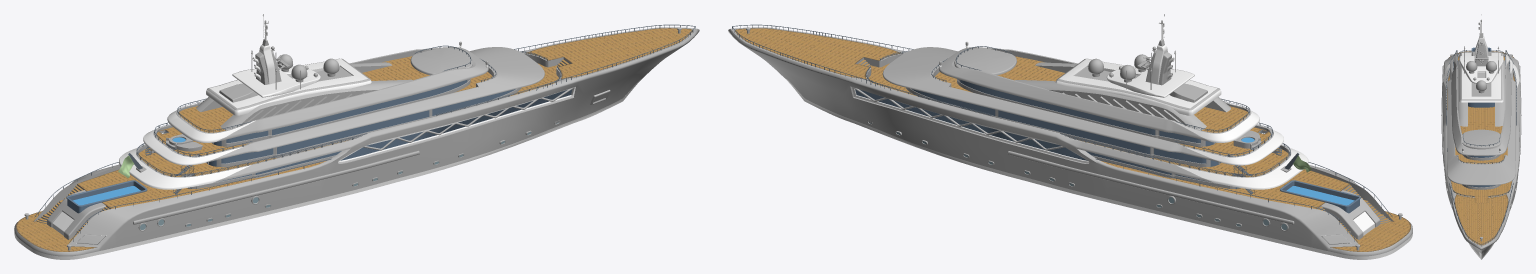
Rendered from Yacht.glb.
The picture shows the model from 3 angles, left to right: view 1: azimuth 30°, elevation 25°; view 2: azimuth 150°, elevation 25°; view 3: azimuth 270°, elevation 25°; orthographic projection. The views are drawn at different scales.
Parts seen in each view (by area): view 1: object; view 2: object; view 3: object.
Part boxes in pixels (x1=…): object: x1=14, y1=14, x2=699, y2=259; object: x1=728, y1=14, x2=1412, y2=259; object: x1=1441, y1=14, x2=1521, y2=259.
Bounding box in the file's own units: 1362 × 338 × 200.
10 materials, 1 textured.
